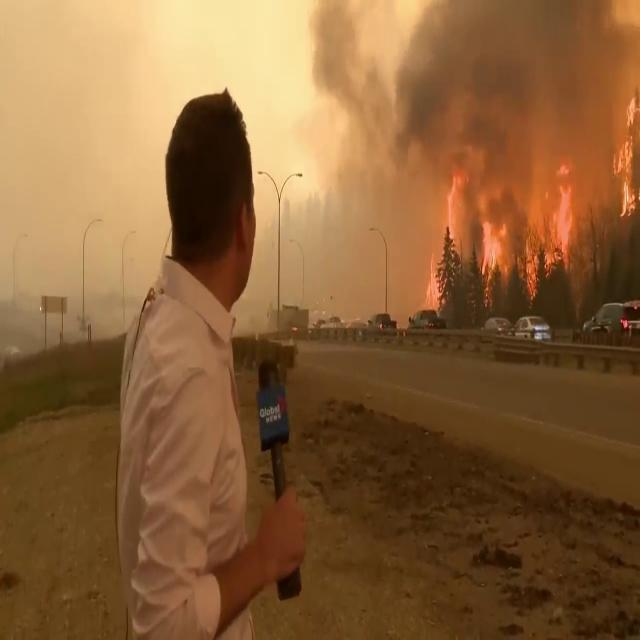Fire: (426, 118, 584, 316), (618, 98, 640, 218)
Smoke: (311, 0, 640, 235)
